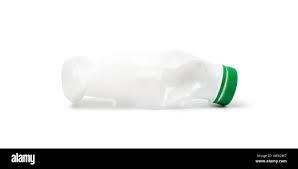plastic: (59, 51, 237, 110)
